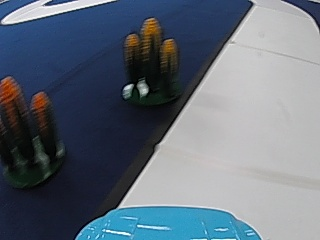corn: (2, 85, 62, 191), (119, 15, 180, 114)
